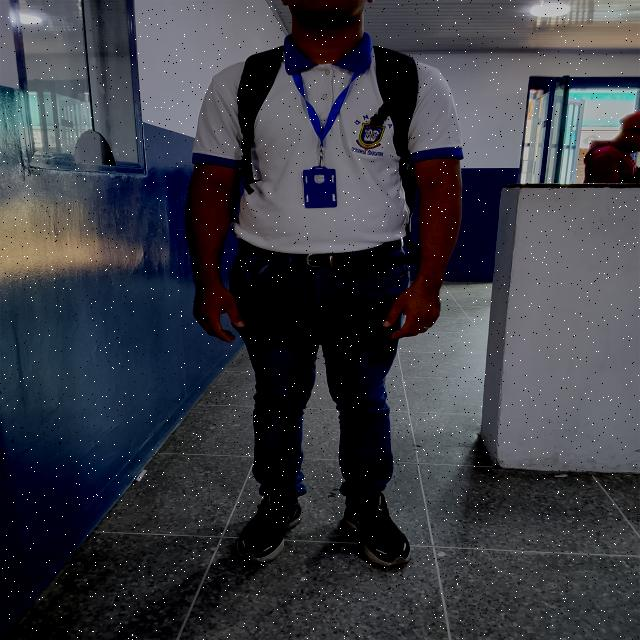carnet: (303, 168, 337, 208)
pantalon_oscuro: (227, 250, 411, 504)
uniforme_superior: (191, 32, 464, 255)
